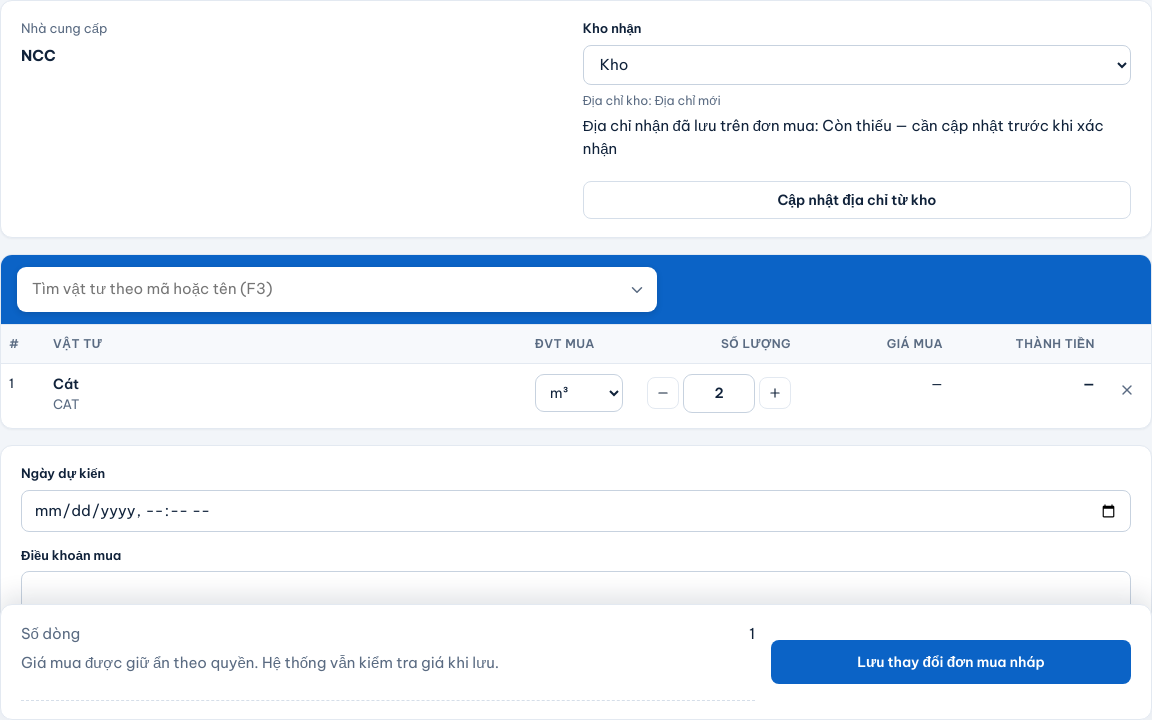
refreshes a legacy draft snapshot only by explicit action and advances its expected version
Replace the text in the field named "Số lượng dòng 1" with "3" at [719, 393], box x1=683 y1=374 x2=755 y2=413
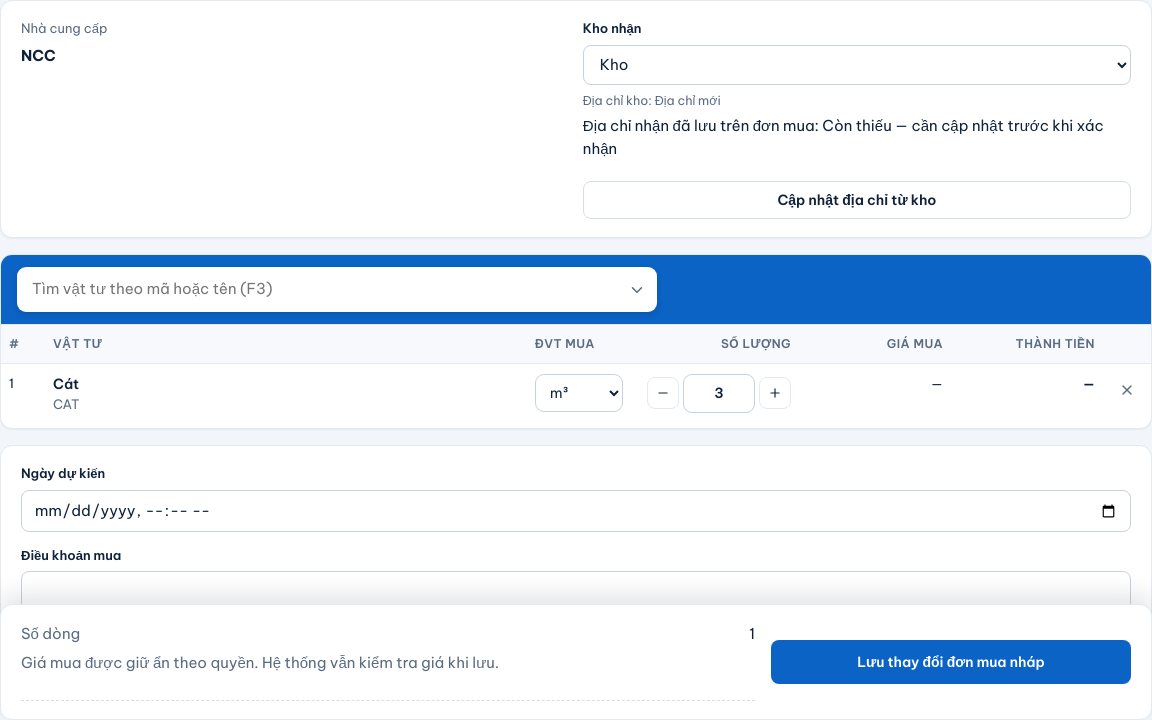
Click the button "Cập nhật địa chỉ từ kho".
click(857, 200)  # box x1=583 y1=181 x2=1131 y2=219
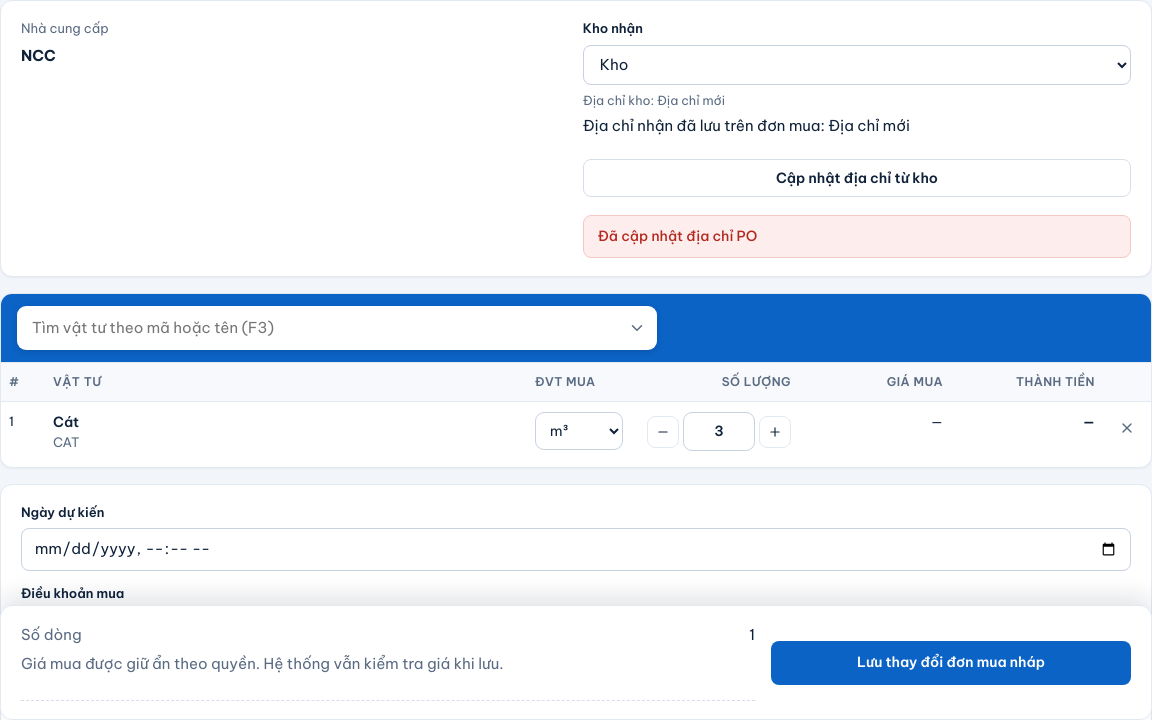
Check: the form named "expectedVersion" holds "2", box x1=0 y1=293 x2=1151 y2=468
Check: the text "Địa chỉ nhận đã lưu trên đơn mua: Địa chỉ mới" is shown, box x1=583 y1=116 x2=910 y2=135
